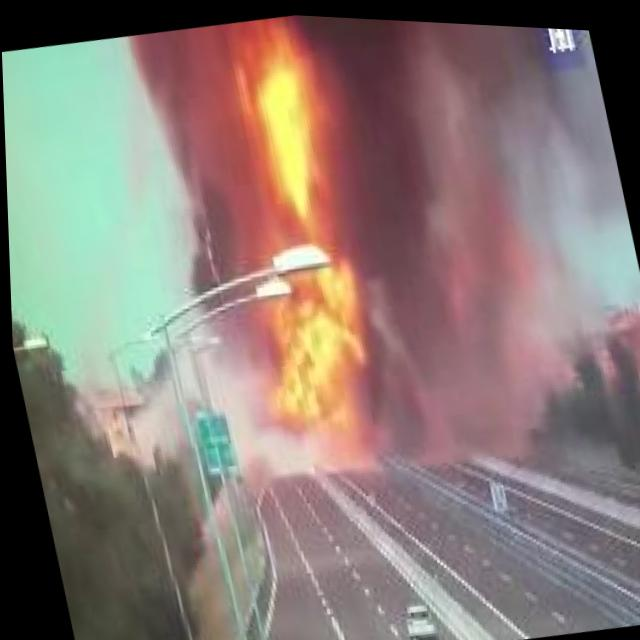fire: (182, 13, 418, 492)
